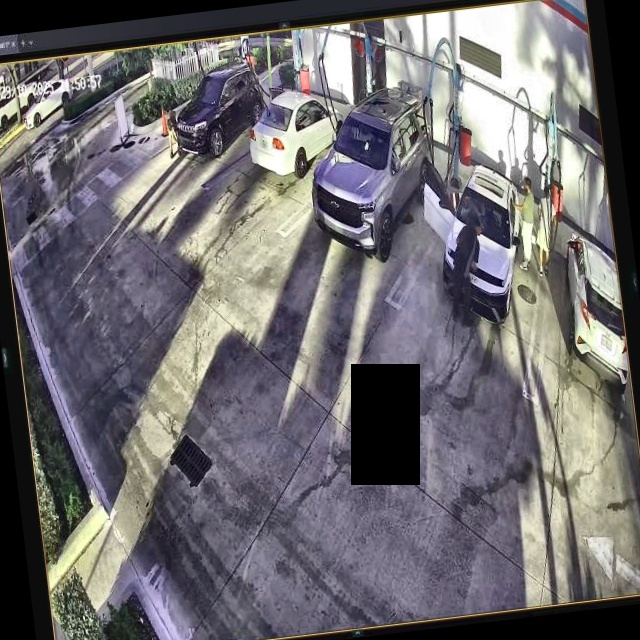Car: (302, 86, 443, 263), (421, 144, 530, 320), (167, 57, 269, 159), (245, 79, 348, 176)
